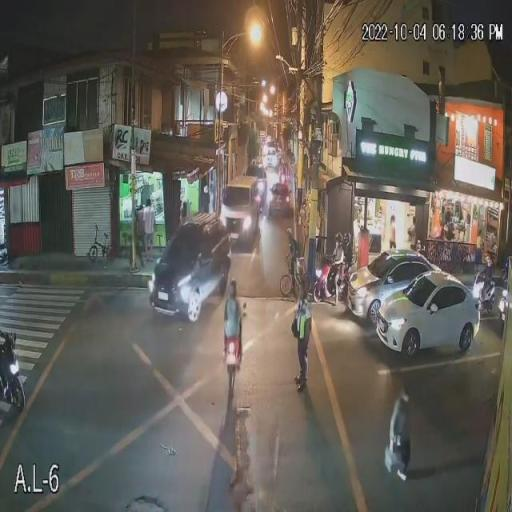helmet: (332, 231, 343, 245), (342, 235, 354, 244), (480, 259, 490, 269), (228, 280, 237, 291)
motorcycle: (0, 328, 26, 412), (312, 262, 348, 308), (472, 265, 499, 315), (222, 329, 244, 376), (493, 261, 511, 314)
rider: (222, 280, 244, 366), (324, 240, 347, 298), (478, 254, 500, 307)
